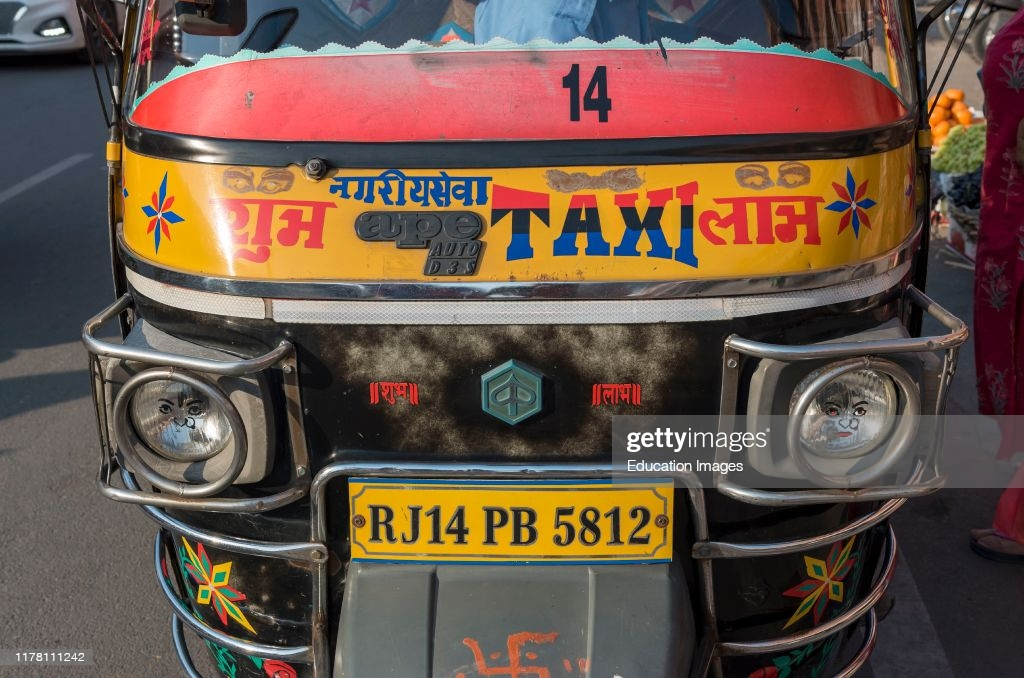numberplate: (347, 476, 676, 563)
